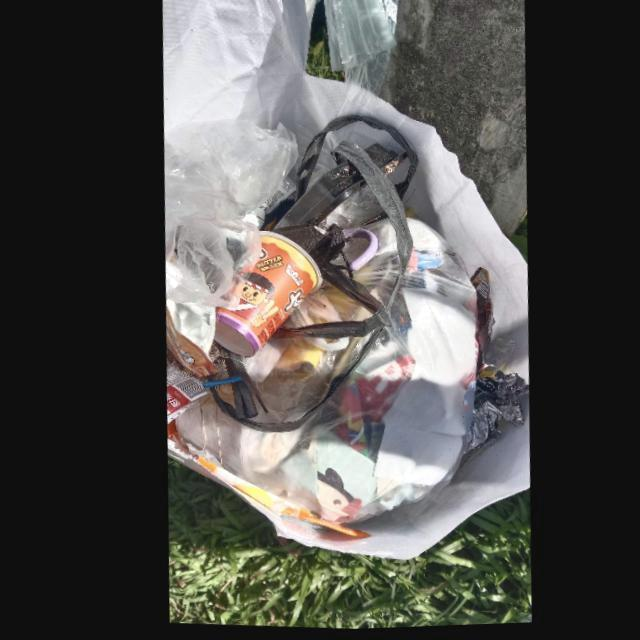food_wrapper: (450, 367, 521, 467), (158, 357, 203, 433)
plastic_bag: (167, 220, 473, 528), (159, 120, 294, 355), (312, 188, 378, 233)
plastic_container: (207, 234, 312, 359), (267, 146, 405, 232)
